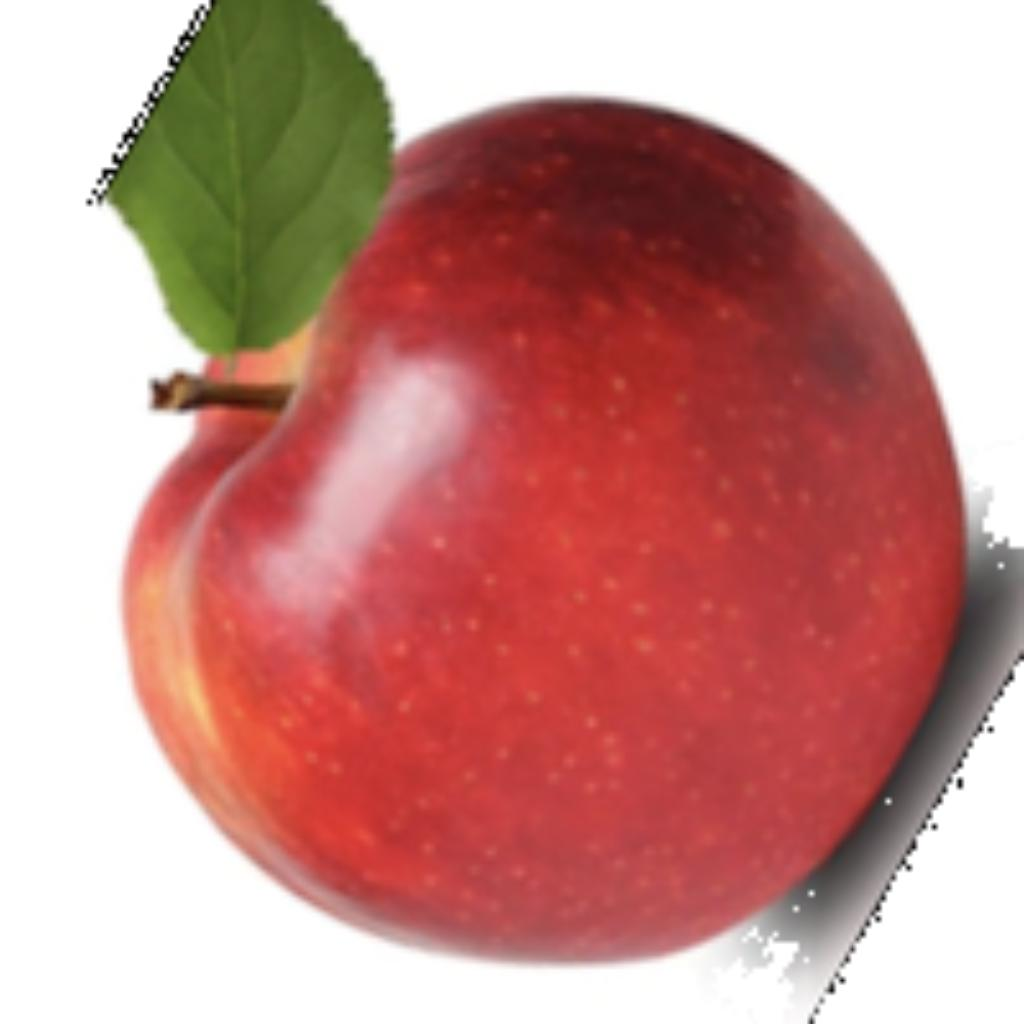apple: (82, 0, 1019, 1019)
